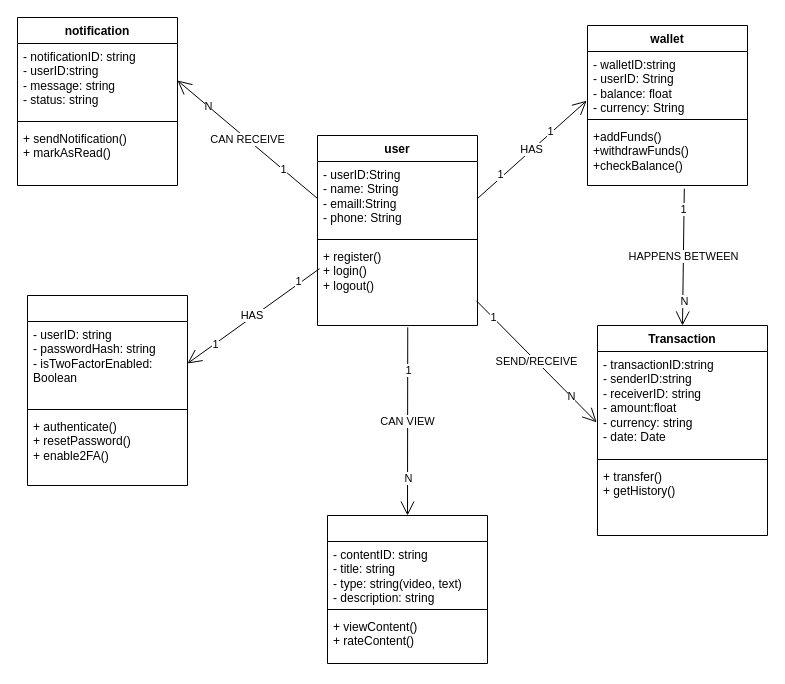
This 785x684 diagram has some shape labels left out. The shapes that lost their labels are listed below. From the top down, each one's box as (x1, y1, x2, y2) in pixels, then its label:
(26, 294, 188, 486): authentication
(326, 514, 488, 664): Education content
